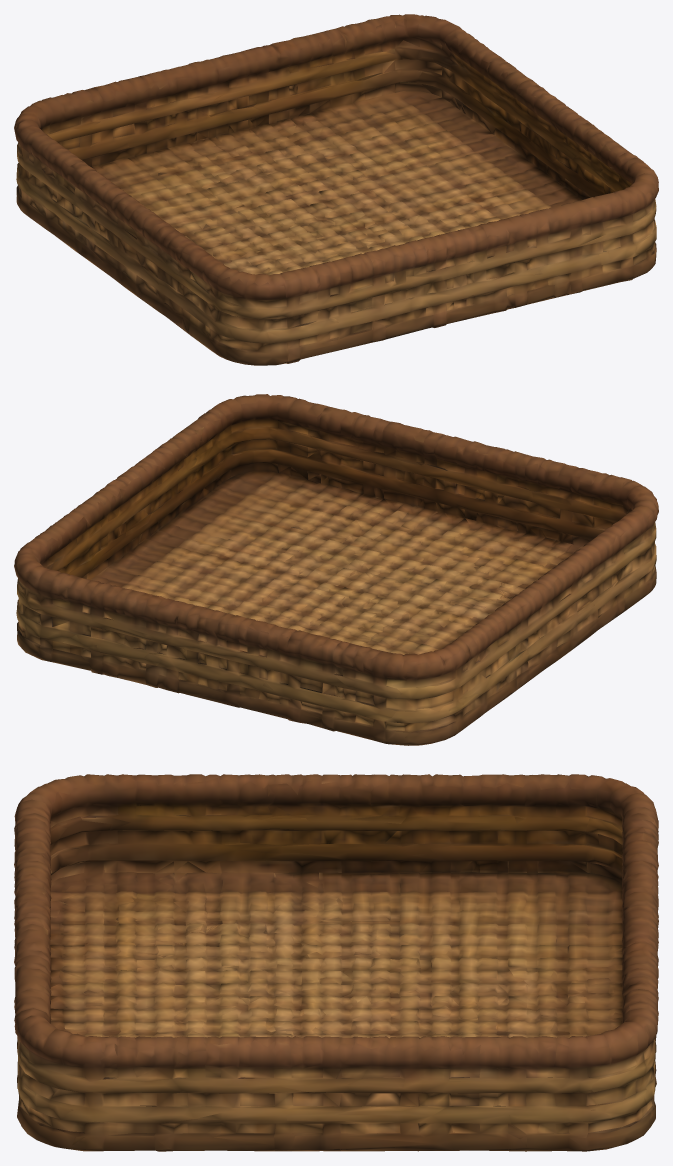
File: basket_farm.glb
The picture shows the model from 3 angles, top to bottom: view 1: azimuth 30°, elevation 25°; view 2: azimuth 150°, elevation 25°; view 3: azimuth 270°, elevation 25°; orthographic projection. The views are drawn at different scales.
Parts seen in each view (by area): view 1: basket_farm; view 2: basket_farm; view 3: basket_farm.
Part boxes in pixels (<box>): basket_farm: <box>14,14,658,365</box>; basket_farm: <box>14,394,658,745</box>; basket_farm: <box>14,774,658,1151</box>.
Size of the model in its own units: 1 by 0.1883 by 0.9888.
Materials: 1 (1 with a texture image).
